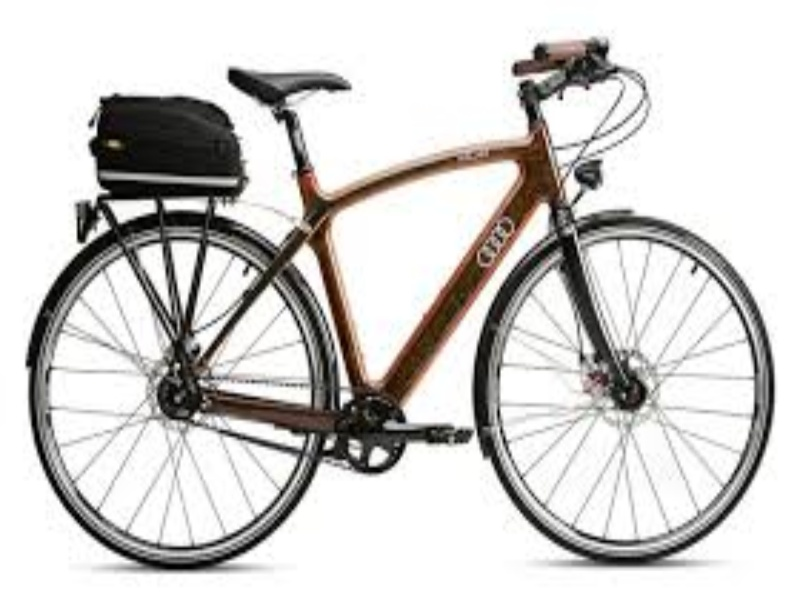bicycle: (23, 21, 787, 576)
